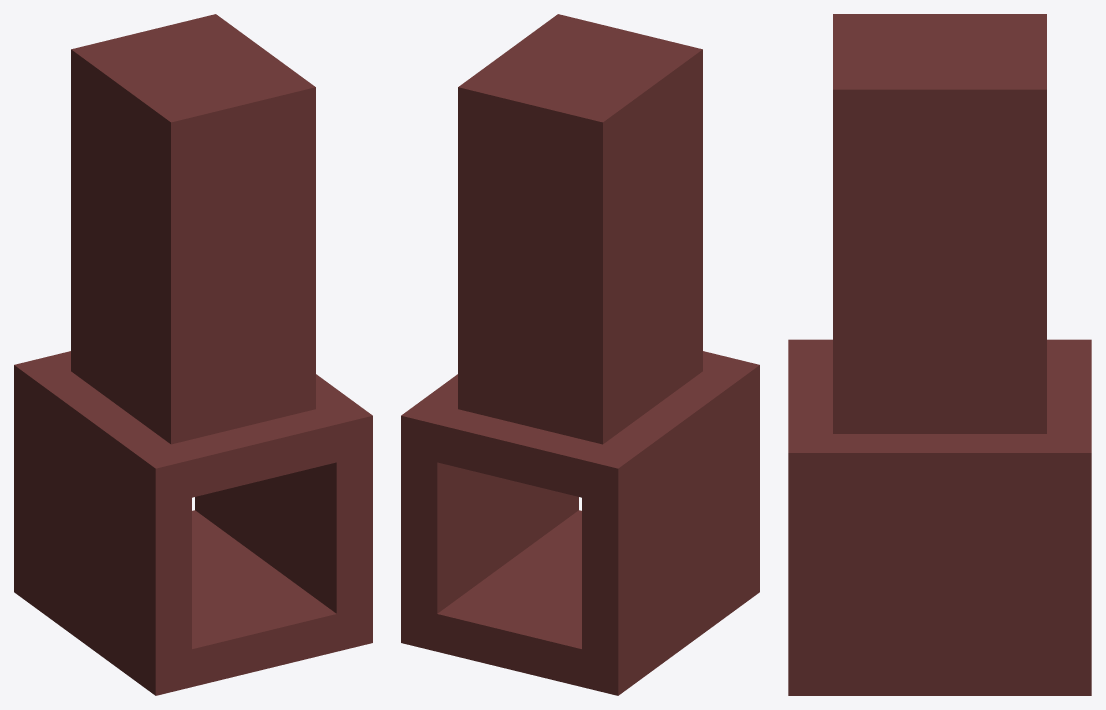
File: RustedMetalWallSmallCeilingsuspender1.fbx
3 views of the same model, side by side, from view 1: azimuth 30°, elevation 25°; view 2: azimuth 150°, elevation 25°; view 3: azimuth 270°, elevation 25° (orthographic). The views are drawn at different scales.
Visible parts, largest first — view 1: RustedMetalWallSmallCeilingSuspender1; view 2: RustedMetalWallSmallCeilingSuspender1; view 3: RustedMetalWallSmallCeilingSuspender1.
Part boxes in pixels (x1=…): RustedMetalWallSmallCeilingSuspender1: x1=14, y1=14, x2=372, y2=695; RustedMetalWallSmallCeilingSuspender1: x1=401, y1=14, x2=759, y2=695; RustedMetalWallSmallCeilingSuspender1: x1=788, y1=14, x2=1091, y2=695.
Bounding box in the file's own units: 0.6 × 1.45 × 0.6783.
1 material, 1 textured.
